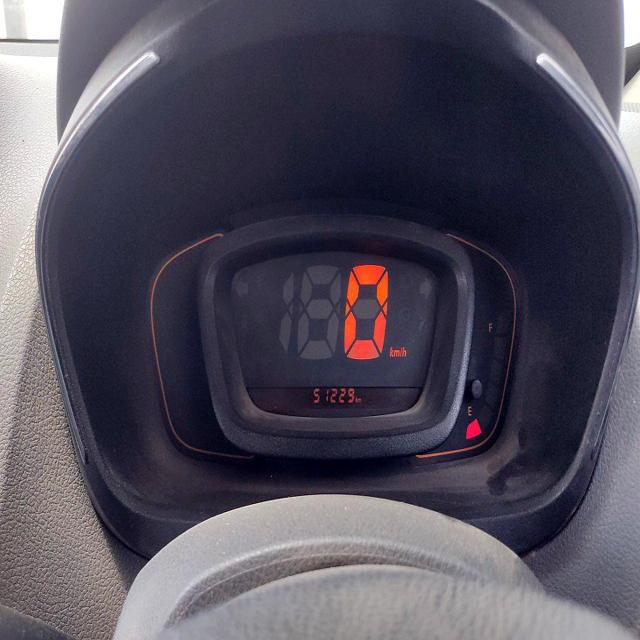odometer: (307, 384, 355, 411)
